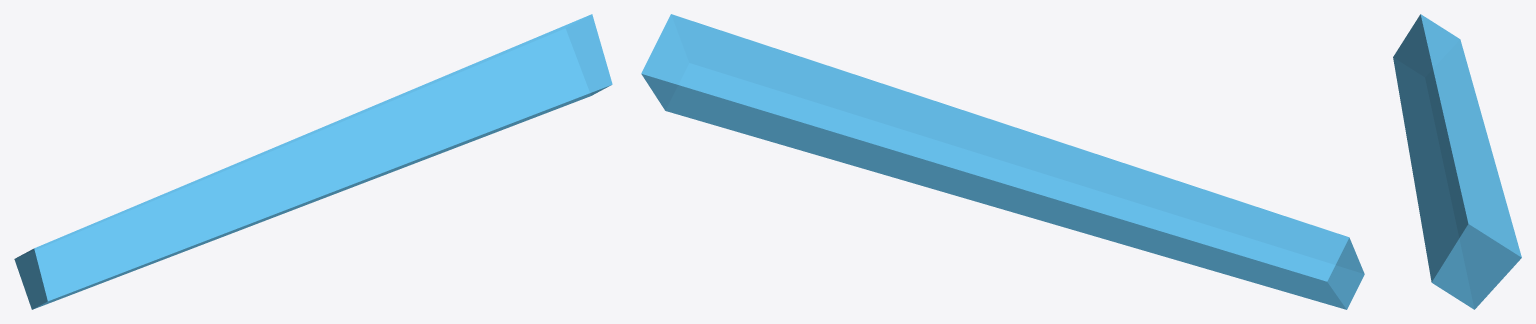
Rendered from Event_420107950_HErechit_32.fbx.
3 renders of one model, left to right at view 1: azimuth 30°, elevation 25°; view 2: azimuth 150°, elevation 25°; view 3: azimuth 270°, elevation 25°, orthographic. The views are drawn at different scales.
Parts seen in each view (by area): view 1: Model; view 2: Model; view 3: Model.
Boxes of the visible parts, box(x1,y1,x2,y2) form: Model: box(14, 14, 612, 309); Model: box(641, 14, 1364, 309); Model: box(1393, 14, 1521, 309).
Size of the model in its own units: 3.5 by 0.7921 by 0.6675.
